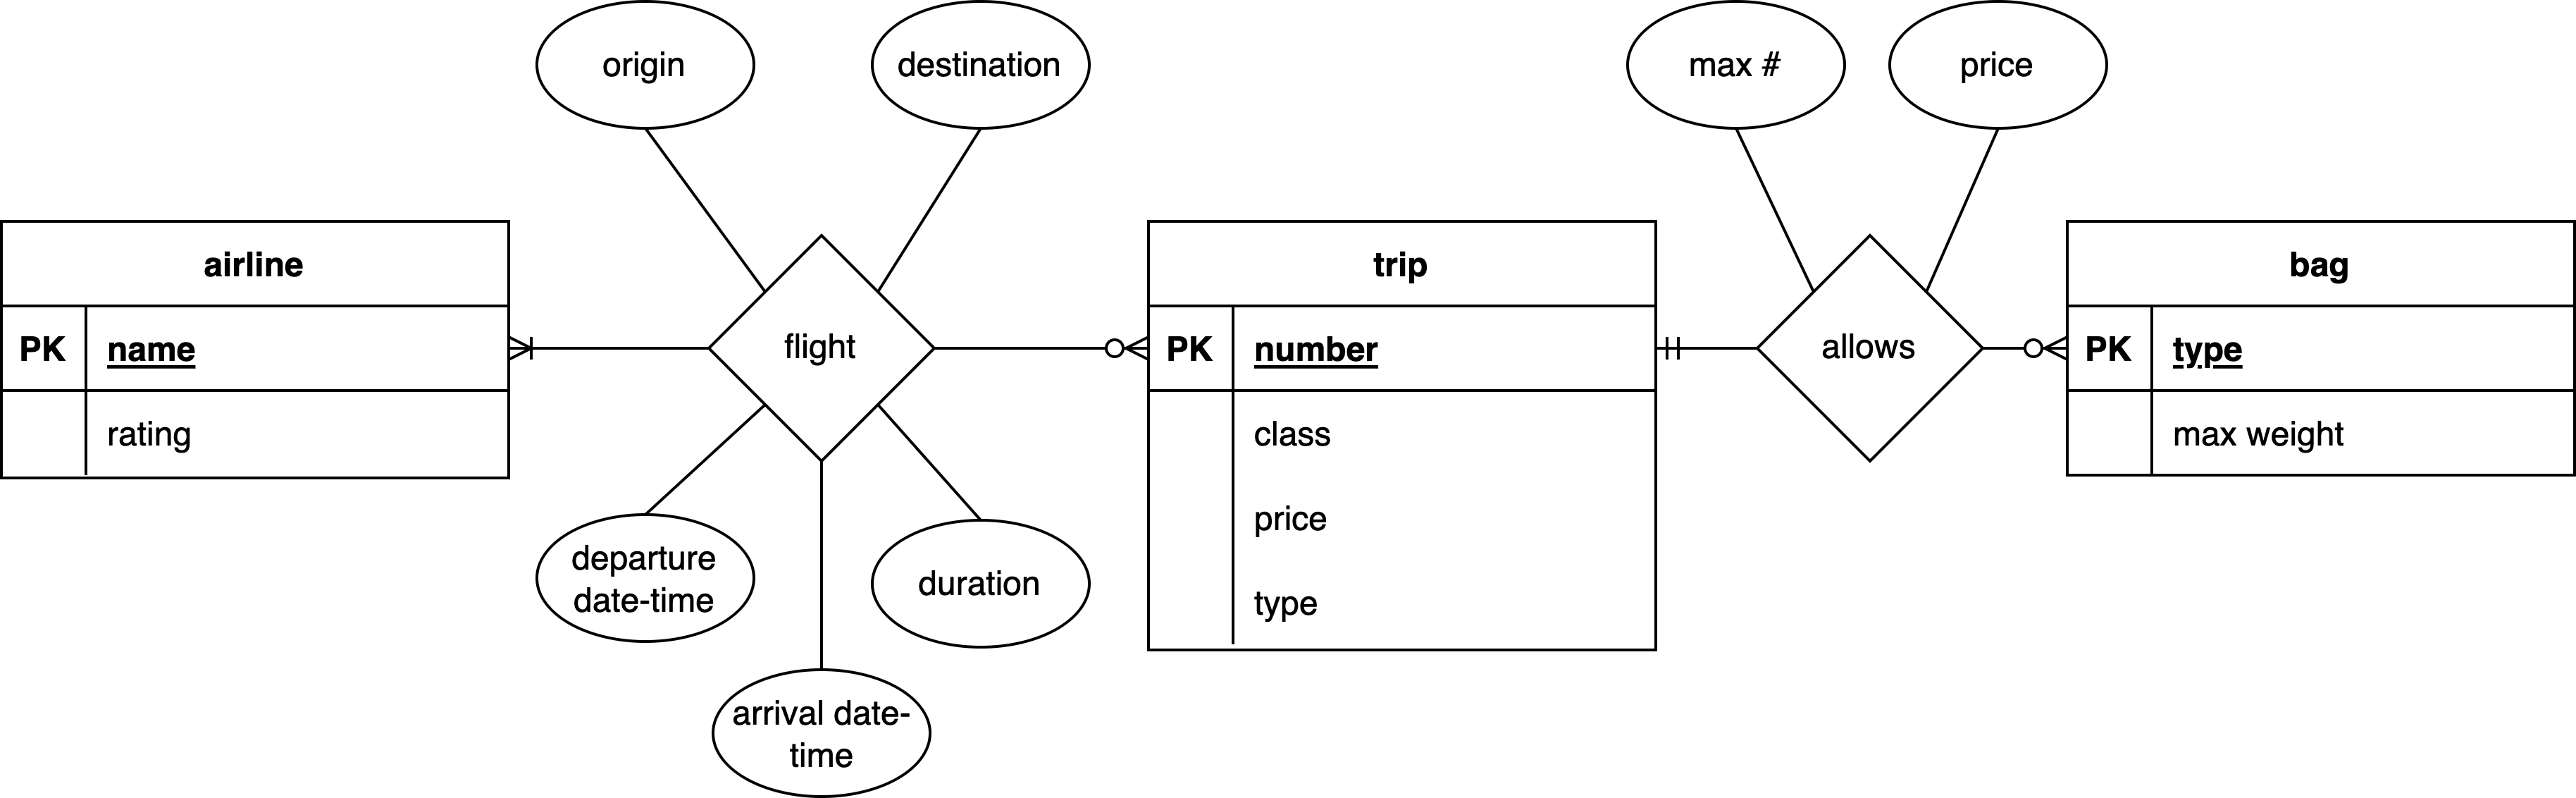entity: (1148, 219, 1659, 647), (0, 220, 509, 477), (2068, 219, 2573, 472)
many: (935, 322, 1145, 377), (513, 322, 706, 377), (1976, 327, 2062, 370)
one: (1659, 326, 1753, 375)
rel: (705, 232, 932, 464), (1756, 232, 1981, 464)
rel_attr: (867, 515, 1094, 653), (1625, 0, 1850, 132), (534, 0, 757, 132), (1884, 0, 2109, 128), (713, 671, 933, 798), (537, 515, 752, 643), (871, 2, 1089, 127)
